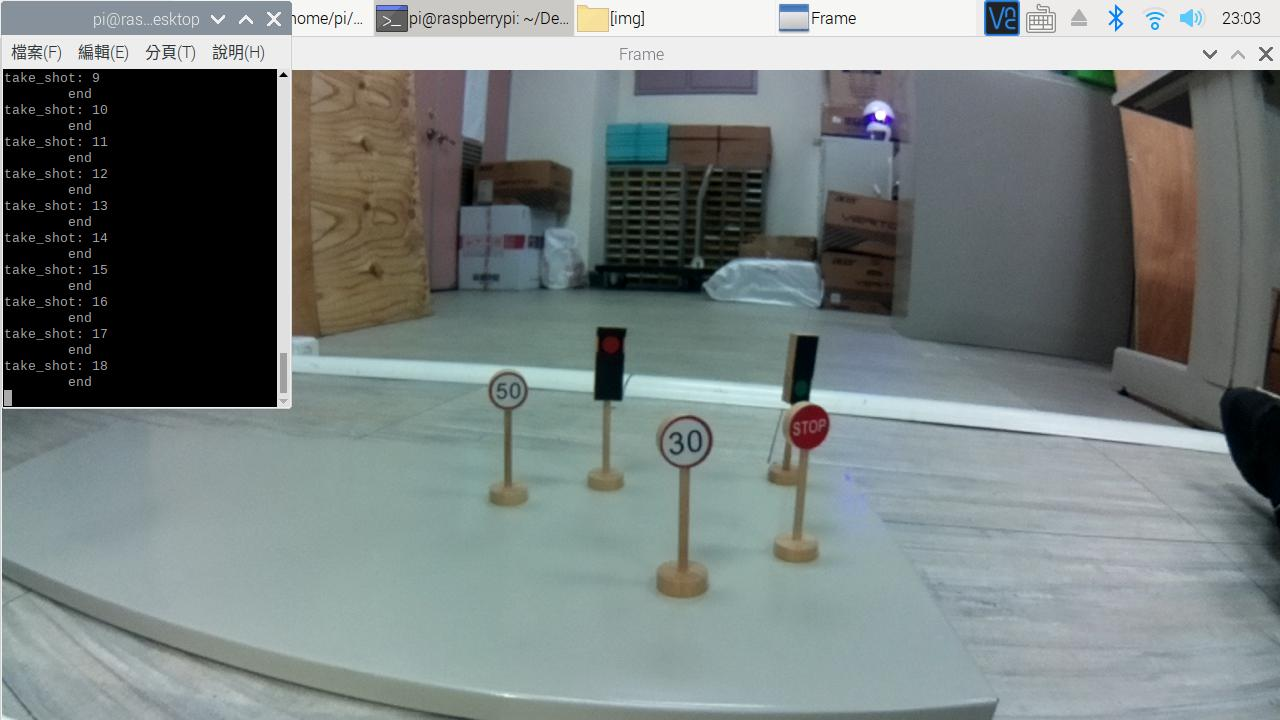Green: (787, 329, 812, 407)
Red: (593, 324, 623, 401)
Speed30: (661, 416, 719, 461)
Speed50: (484, 368, 533, 411)
Stop: (790, 411, 835, 449)
